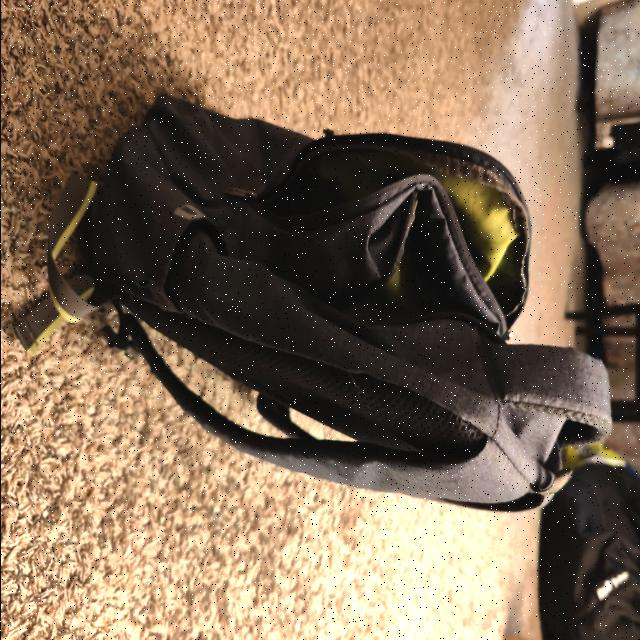bag: (99, 96, 614, 506)
